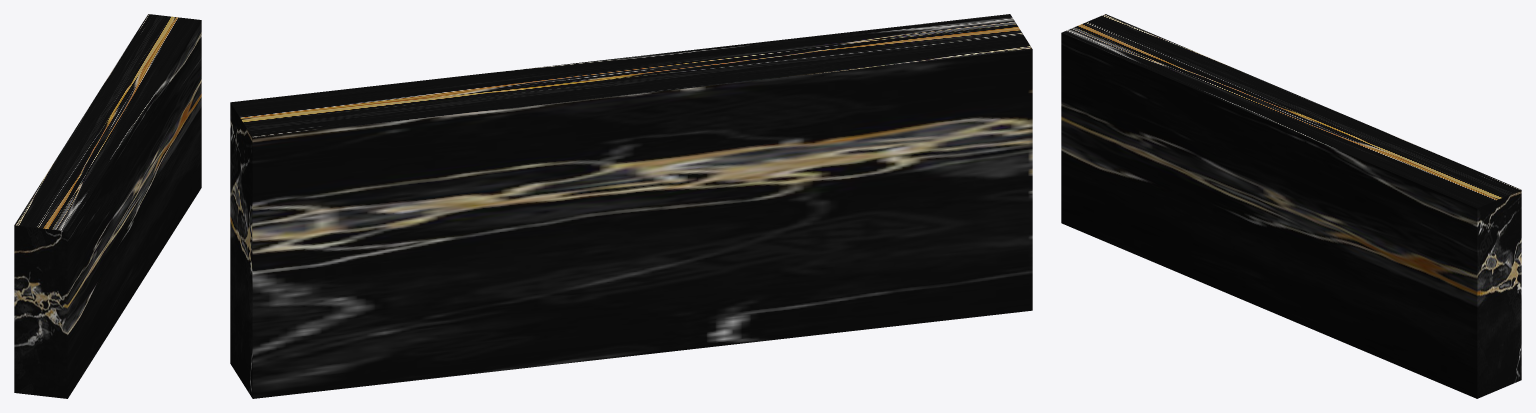
File: menuBlock.glb
3 views of the same model, side by side, from view 1: azimuth 30°, elevation 25°; view 2: azimuth 150°, elevation 25°; view 3: azimuth 270°, elevation 25° (orthographic). The views are drawn at different scales.
Parts seen in each view (by area): view 1: 立方体; view 2: 立方体; view 3: 立方体.
Part boxes in pixels (x1=…): 立方体: x1=14, y1=14, x2=201, y2=398; 立方体: x1=230, y1=14, x2=1032, y2=398; 立方体: x1=1061, y1=14, x2=1521, y2=398.
Size of the model in its own units: 1.1 by 0.5 by 1.1.
Materials: 1 (1 with a texture image).
